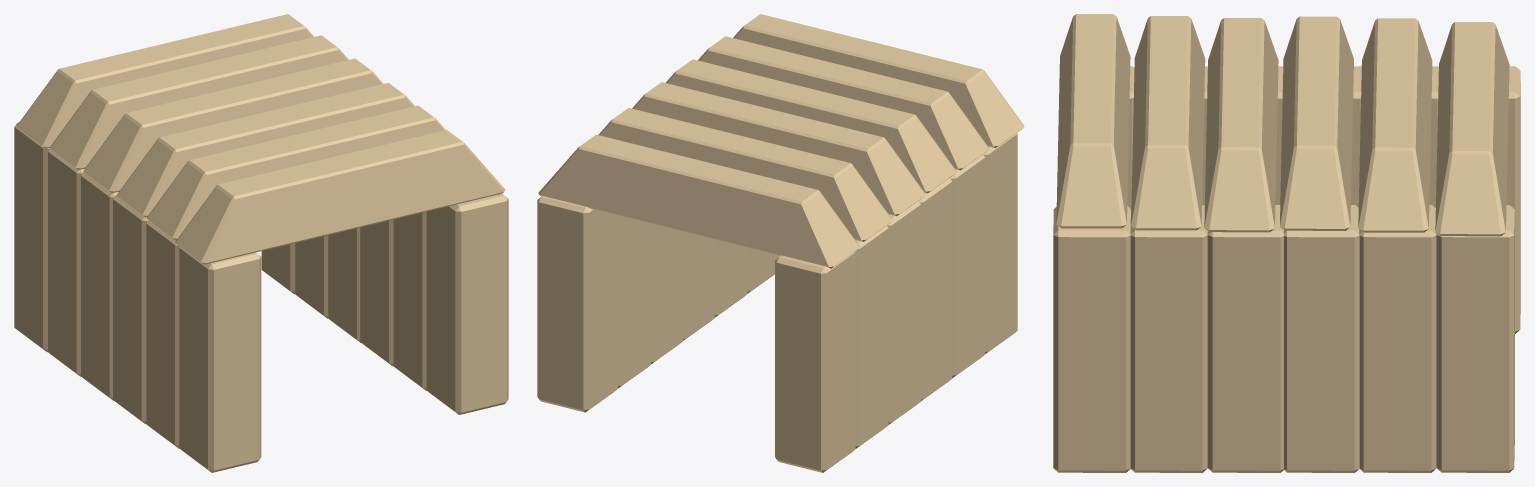
The model's file is zoo_3_i.glb.
The picture shows the model from 3 angles, left to right: view 1: azimuth 30°, elevation 25°; view 2: azimuth 150°, elevation 25°; view 3: azimuth 270°, elevation 25°; orthographic projection. The views are drawn at different scales.
Visible parts, largest first — view 1: zoo_3_intact; view 2: zoo_3_intact; view 3: zoo_3_intact.
Part boxes in pixels (box(x1,y1,x2,y2)): zoo_3_intact: box(14, 14, 508, 472); zoo_3_intact: box(537, 14, 1024, 472); zoo_3_intact: box(1053, 14, 1520, 472).
Bounding box in the file's own units: 8.92 × 7.35 × 10.06.
